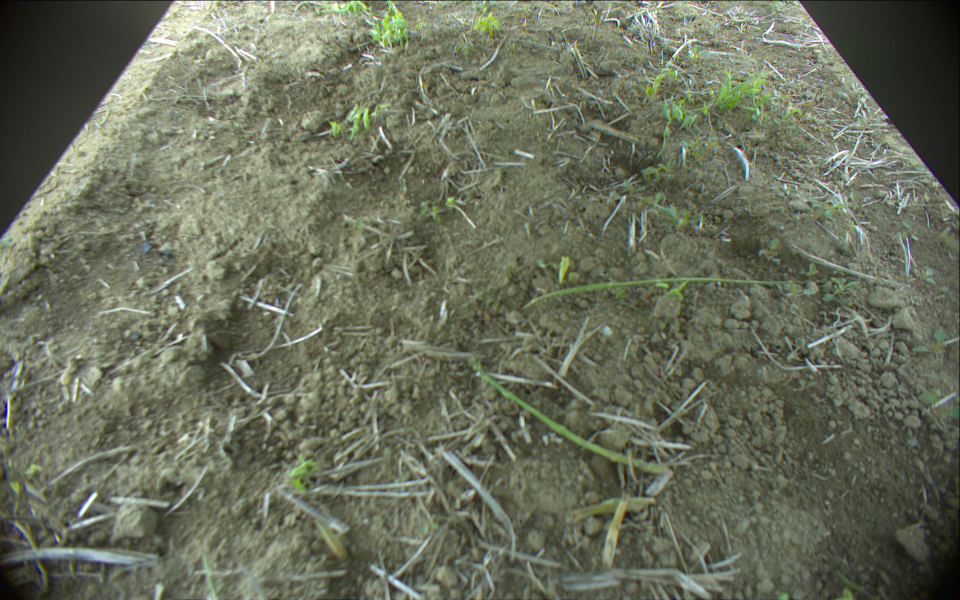aspa: (467, 355, 672, 476), (523, 268, 814, 312), (566, 495, 656, 524), (604, 490, 637, 566), (313, 515, 354, 561), (474, 28, 512, 70)
